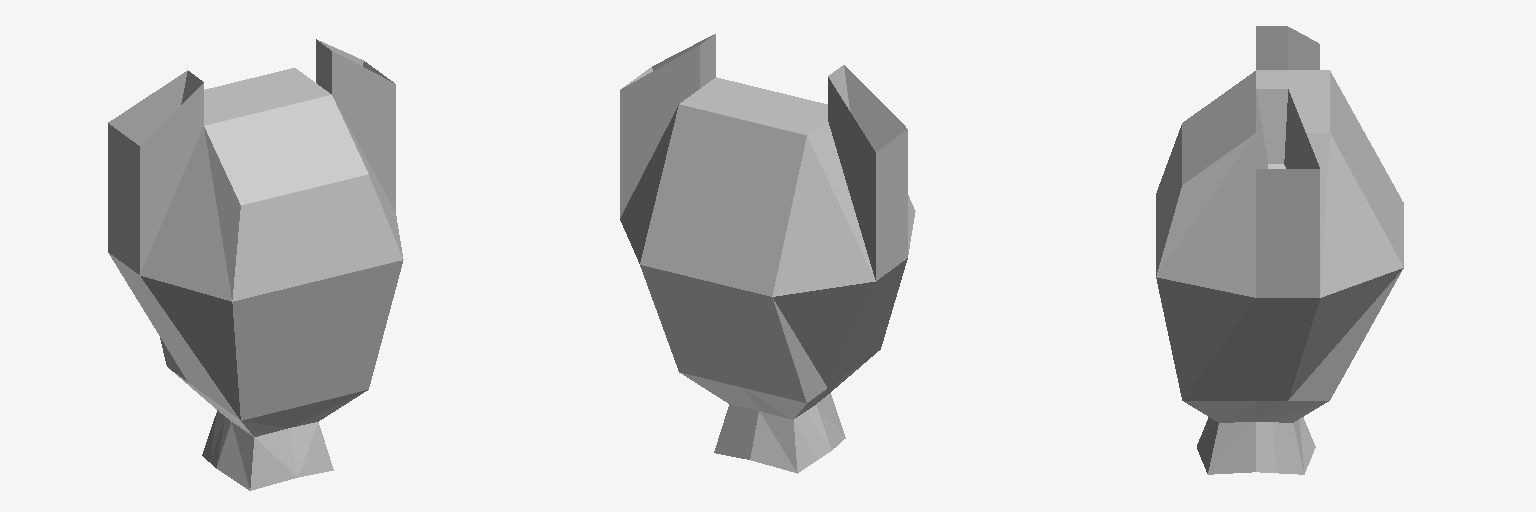
File: player.obj
3 renders of one model, left to right at view 1: azimuth 30°, elevation 25°; view 2: azimuth 150°, elevation 25°; view 3: azimuth 270°, elevation 25°, orthographic.
Parts seen in each view (by area): view 1: Cube; view 2: Cube; view 3: Cube.
Boxes of the visible parts, x1=… form: Cube: x1=108, y1=39, x2=403, y2=490; Cube: x1=620, y1=34, x2=915, y2=473; Cube: x1=1156, y1=26, x2=1403, y2=474.
Bounding box in the file's own units: 2 × 2.96 × 1.68.